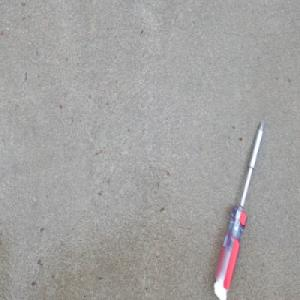Screwdriver: (212, 117, 266, 300)
